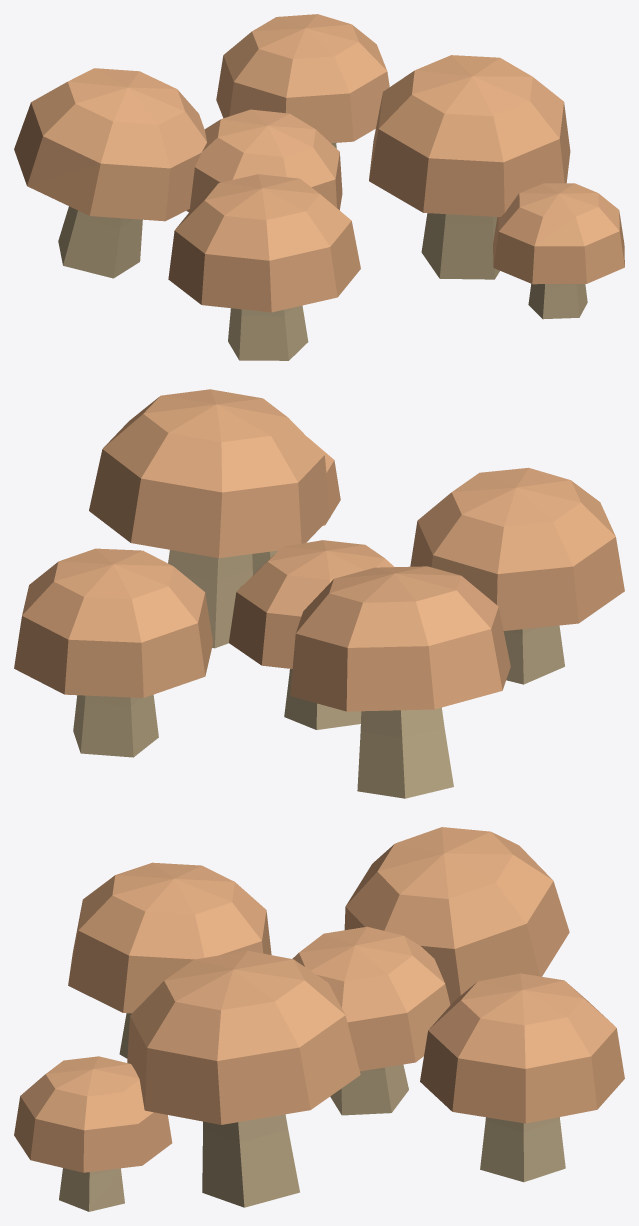
File: plant_nutrifungus_b.obj
The picture shows the model from 3 angles, top to bottom: view 1: azimuth 30°, elevation 25°; view 2: azimuth 150°, elevation 25°; view 3: azimuth 270°, elevation 25°; orthographic projection. The views are drawn at different scales.
Visible parts, largest first — view 1: plant_nutrifungus_b_3, plant_nutrifungus_b_7, plant_nutrifungus_b_1, plant_nutrifungus_b_9, plant_nutrifungus_b_11, plant_nutrifungus_b_5, plant_nutrifungus_b_6, plant_nutrifungus_b_2, plant_nutrifungus_b_0, plant_nutrifungus_b_10; view 2: plant_nutrifungus_b_3, plant_nutrifungus_b_7, plant_nutrifungus_b_1, plant_nutrifungus_b_9, plant_nutrifungus_b_5, plant_nutrifungus_b_6, plant_nutrifungus_b_8, plant_nutrifungus_b_2, plant_nutrifungus_b_0, plant_nutrifungus_b_4, plant_nutrifungus_b_11; view 3: plant_nutrifungus_b_3, plant_nutrifungus_b_7, plant_nutrifungus_b_9, plant_nutrifungus_b_1, plant_nutrifungus_b_5, plant_nutrifungus_b_11, plant_nutrifungus_b_2, plant_nutrifungus_b_8, plant_nutrifungus_b_4, plant_nutrifungus_b_10.
Part boxes in pixels (box(x1,y1,x2,y2)): plant_nutrifungus_b_3: box(369, 55, 570, 216); plant_nutrifungus_b_7: box(14, 68, 206, 221); plant_nutrifungus_b_1: box(168, 174, 360, 312); plant_nutrifungus_b_9: box(216, 14, 389, 143); plant_nutrifungus_b_11: box(493, 183, 624, 284); plant_nutrifungus_b_5: box(186, 109, 342, 212); plant_nutrifungus_b_6: box(58, 206, 142, 278); plant_nutrifungus_b_2: box(421, 213, 499, 279); plant_nutrifungus_b_0: box(228, 305, 308, 360); plant_nutrifungus_b_10: box(528, 284, 587, 319); plant_nutrifungus_b_3: box(89, 389, 330, 558); plant_nutrifungus_b_7: box(290, 566, 510, 711); plant_nutrifungus_b_1: box(410, 467, 624, 630); plant_nutrifungus_b_9: box(14, 548, 212, 697); plant_nutrifungus_b_5: box(229, 540, 393, 668); plant_nutrifungus_b_6: box(357, 707, 453, 798); plant_nutrifungus_b_8: box(73, 694, 158, 757); plant_nutrifungus_b_2: box(168, 550, 252, 648); plant_nutrifungus_b_0: box(503, 625, 564, 684); plant_nutrifungus_b_4: box(284, 669, 361, 729); plant_nutrifungus_b_11: box(307, 437, 340, 525); plant_nutrifungus_b_3: box(127, 950, 360, 1124); plant_nutrifungus_b_7: box(344, 827, 569, 1004); plant_nutrifungus_b_9: box(420, 973, 624, 1123); plant_nutrifungus_b_1: box(68, 862, 271, 1013); plant_nutrifungus_b_5: box(292, 926, 450, 1071); plant_nutrifungus_b_11: box(14, 1056, 172, 1172); plant_nutrifungus_b_2: box(202, 1114, 299, 1207); plant_nutrifungus_b_8: box(480, 1117, 565, 1182); plant_nutrifungus_b_4: box(330, 1064, 408, 1115); plant_nutrifungus_b_10: box(59, 1168, 124, 1211).
Bounding box in the file's own units: 1.31 × 0.5618 × 1.4.
